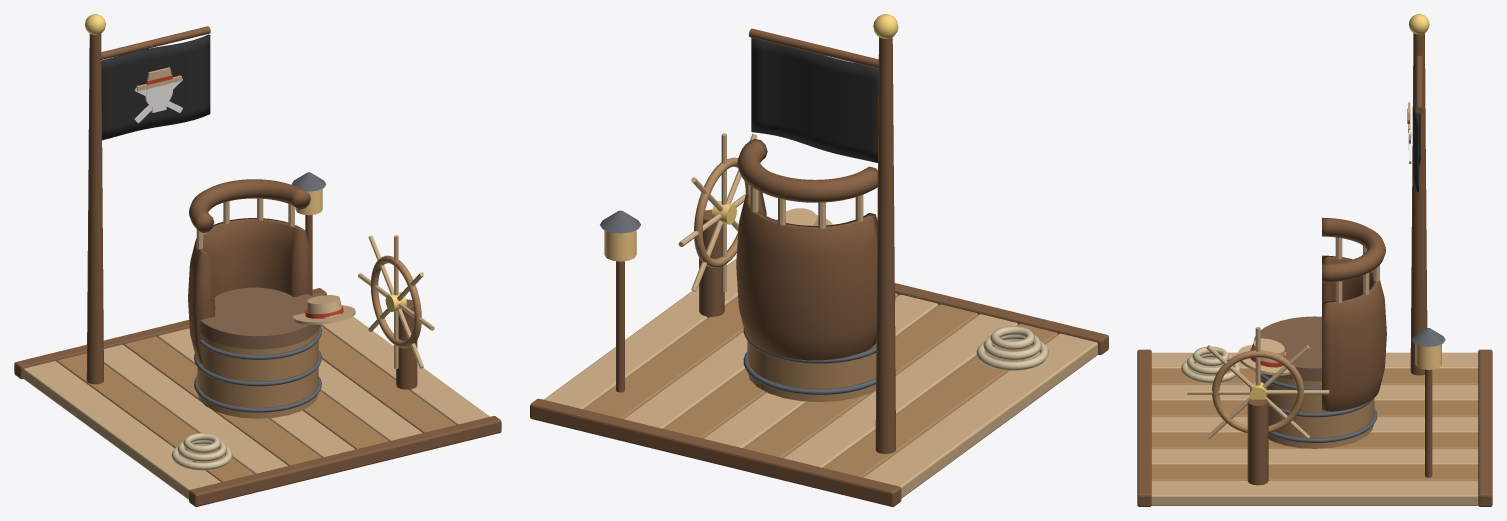
Rendered from PirateCaptainChair.fbx.
The picture shows the model from 3 angles, left to right: view 1: azimuth 30°, elevation 25°; view 2: azimuth 150°, elevation 25°; view 3: azimuth 270°, elevation 25°; orthographic projection. The views are drawn at different scales.
Visible parts, largest first — view 1: Back, Flag, Deck_1, Barrel, Deck_Rail_L, Seat, Mast, Deck_3, Deck_2, Deck_4, Deck_8, Deck_9 (+16 smaller); view 2: Back, Flag, Deck_1, Deck_Rail_R, Mast, Deck_3, Deck_2, Deck_9, Deck_4, Deck_8, Barrel, Deck_7 (+14 smaller); view 3: Deck_9, Back, Deck_8, Deck_7, Wheel, Deck_6, Barrel, Mast, Deck_4, Deck_5, Deck_3, Seat (+17 smaller).
Part boxes in pixels (x1,y1,x2,y2): Back: (188, 218, 311, 363); Flag: (101, 34, 210, 140); Deck_1: (23, 361, 220, 499); Barrel: (197, 331, 318, 418); Deck_Rail_L: (189, 416, 501, 506); Seat: (200, 287, 320, 349); Mast: (86, 33, 103, 384); Deck_3: (103, 344, 288, 473); Deck_2: (57, 353, 254, 482); Deck_4: (124, 336, 321, 465); Deck_8: (318, 325, 456, 432); Deck_9: (321, 316, 489, 424); Back: (736, 191, 877, 360); Flag: (751, 37, 878, 162); Deck_1: (863, 333, 1097, 498); Deck_Rail_R: (530, 398, 901, 506); Mast: (875, 37, 895, 453); Deck_3: (783, 314, 1018, 467); Deck_2: (823, 323, 1057, 477); Deck_9: (544, 258, 737, 409); Deck_4: (743, 304, 977, 457); Deck_8: (584, 296, 743, 418); Barrel: (747, 340, 876, 401); Deck_7: (623, 331, 747, 428); Deck_9: (1151, 480, 1478, 505); Back: (1322, 255, 1386, 411); Deck_8: (1151, 464, 1478, 480); Deck_7: (1151, 448, 1478, 464); Wheel: (1187, 327, 1329, 439); Deck_6: (1151, 432, 1478, 448); Barrel: (1260, 373, 1374, 448); Mast: (1410, 33, 1427, 375); Deck_4: (1151, 400, 1478, 416); Deck_5: (1151, 416, 1478, 432); Deck_3: (1151, 384, 1478, 400); Seat: (1253, 316, 1321, 381).
Size of the model in its own units: 7.3 by 8.57 by 7.5.
